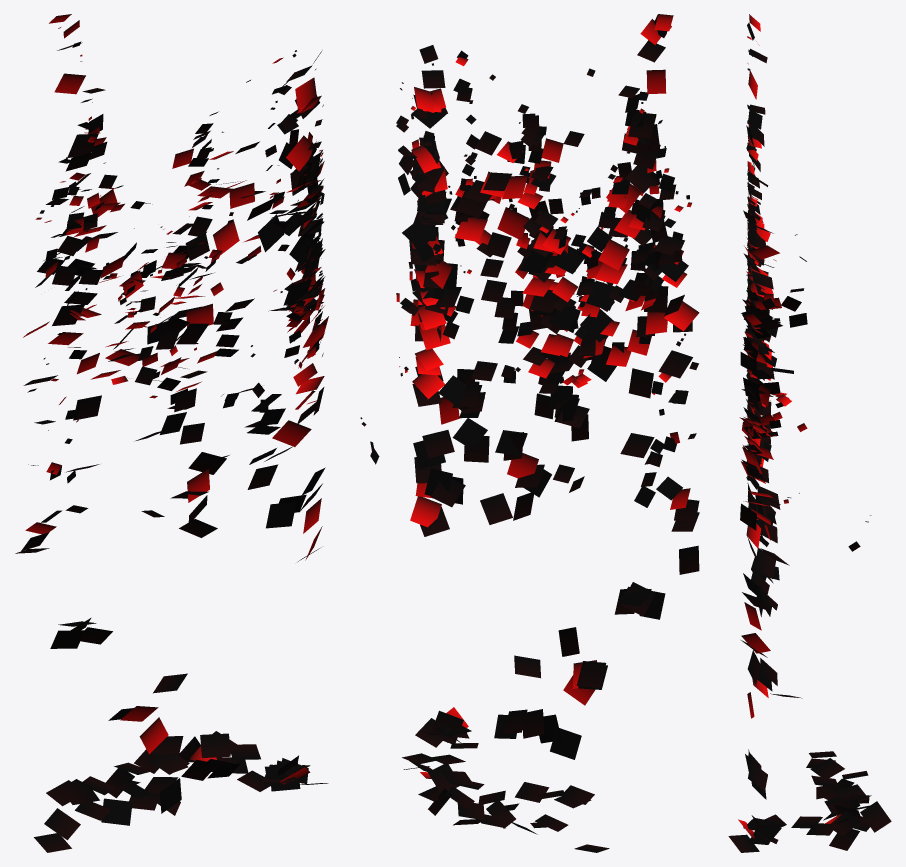
The model's file is Ivy4_Leaf.FBX.
The picture shows the model from 3 angles, left to right: view 1: azimuth 30°, elevation 25°; view 2: azimuth 150°, elevation 25°; view 3: azimuth 270°, elevation 25°; orthographic projection. The views are drawn at different scales.
Visible parts, largest first — view 1: Ivy5; view 2: Ivy5; view 3: Ivy5.
Part boxes in pixels (bbox=[...]): Ivy5: bbox=[15, 14, 328, 852]; Ivy5: bbox=[360, 14, 699, 852]; Ivy5: bbox=[728, 14, 891, 852].
Size of the model in its own units: 115 by 308 by 59.91.
